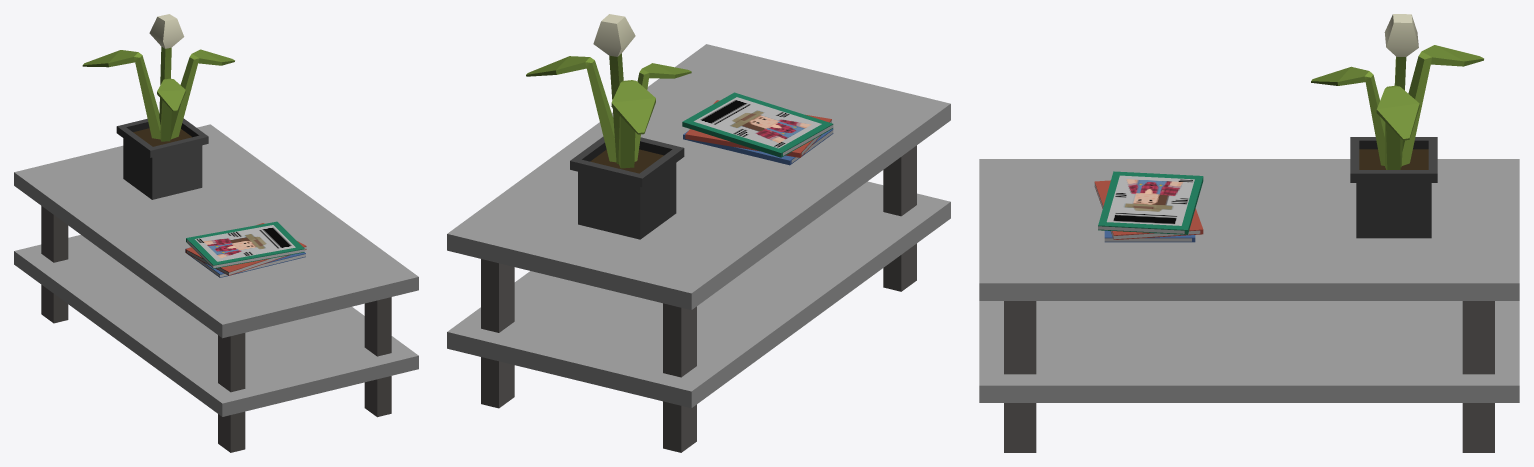
The model's file is SO_Coffeetable_02.fbx.
The picture shows the model from 3 angles, left to right: view 1: azimuth 30°, elevation 25°; view 2: azimuth 150°, elevation 25°; view 3: azimuth 270°, elevation 25°; orthographic projection. The views are drawn at different scales.
Visible parts, largest first — view 1: SO_Coffeetable_02; view 2: SO_Coffeetable_02; view 3: SO_Coffeetable_02.
Part boxes in pixels (x1,y1,x2,y2): SO_Coffeetable_02: (14, 14, 418, 452); SO_Coffeetable_02: (447, 14, 950, 452); SO_Coffeetable_02: (979, 14, 1519, 452).
Bounding box in the file's own units: 1.22 × 1.79 × 2.24.
